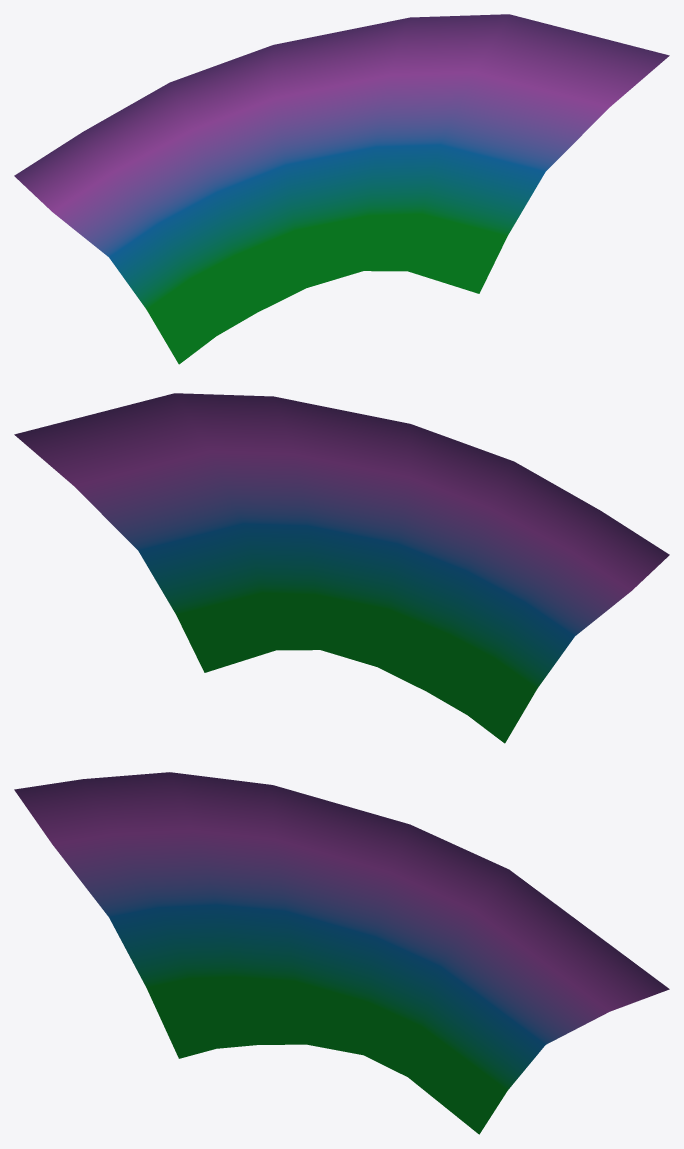
Rendered from troll_steam_01.FBX.
3 views of the same model, one above another, from view 1: azimuth 30°, elevation 25°; view 2: azimuth 150°, elevation 25°; view 3: azimuth 330°, elevation 25° (orthographic).
Visible parts, largest first — view 1: Plane003; view 2: Plane003; view 3: Plane003.
Boxes of the visible parts, left/top/right/bottom form: Plane003: left=14, top=14, right=669, bottom=364; Plane003: left=14, top=393, right=669, bottom=743; Plane003: left=14, top=772, right=669, bottom=1134.
Bounding box in the file's own units: 67.07 × 29.26 × 1.28e-06.
